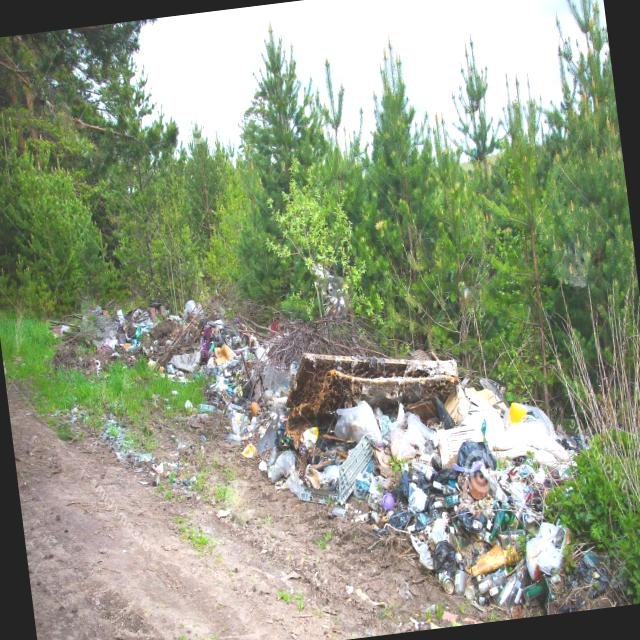garbage: (261, 296, 640, 633)
